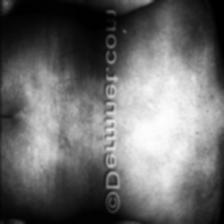Toxin: (0, 29, 97, 194), (116, 136, 210, 224), (117, 0, 205, 90)
